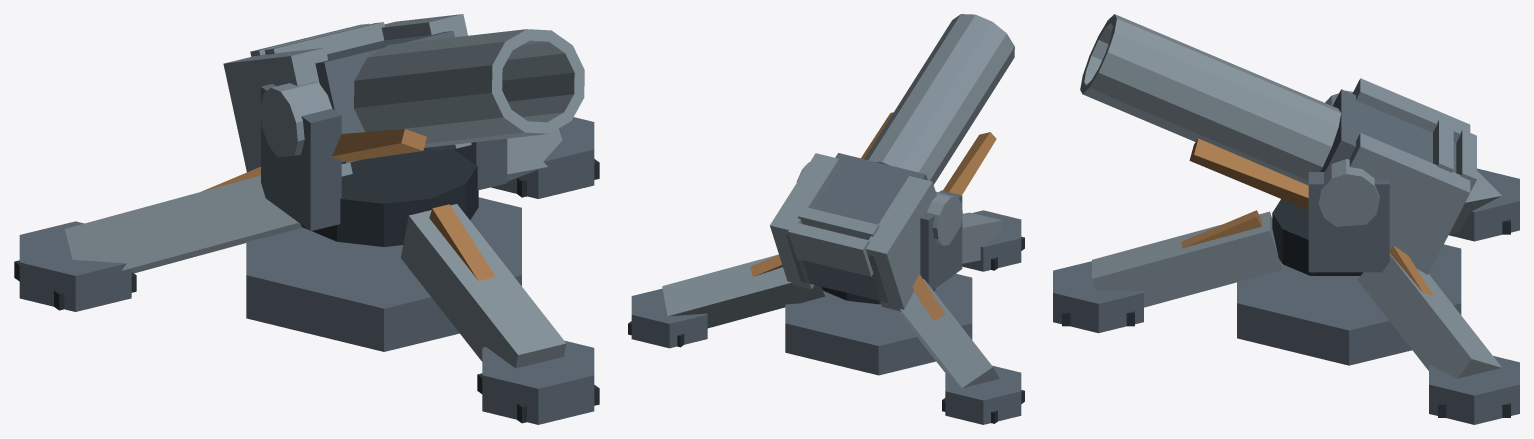
File: howitzer_t1_d0.meshopt.glb
3 views of the same model, side by side, from view 1: azimuth 30°, elevation 25°; view 2: azimuth 150°, elevation 25°; view 3: azimuth 270°, elevation 25° (orthographic). The views are drawn at different scales.
Visible parts, largest first — view 1: ROOT_ARMOR_GEOMETRY; view 2: ROOT_ARMOR_GEOMETRY; view 3: ROOT_ARMOR_GEOMETRY.
Boxes of the visible parts, bbox=[...] form: ROOT_ARMOR_GEOMETRY: bbox=[14, 14, 599, 424]; ROOT_ARMOR_GEOMETRY: bbox=[628, 14, 1024, 424]; ROOT_ARMOR_GEOMETRY: bbox=[1053, 14, 1519, 424].
Bounding box in the file's own units: 3.33 × 2.03 × 2.89.
